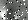person: (1, 8, 8, 20), (14, 8, 21, 19)
